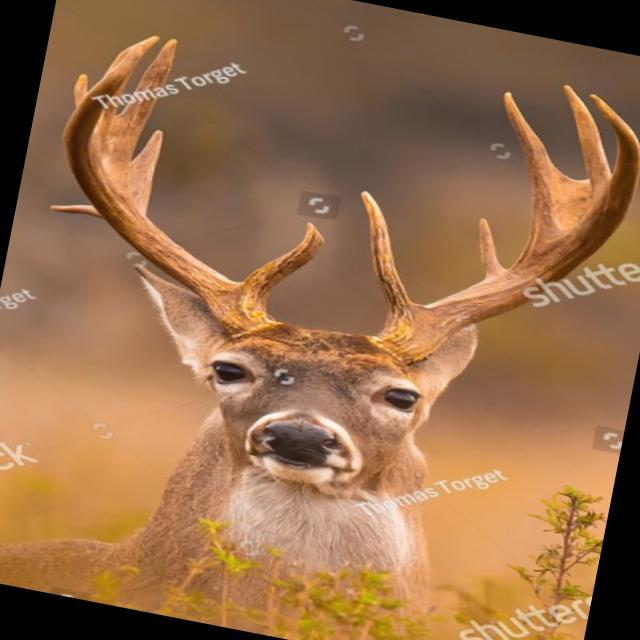E1: (49, 206, 103, 217)
L-F: (372, 93, 640, 362)
L-G1: (359, 189, 416, 315)
L-G2: (478, 217, 507, 281)
L-G3: (503, 92, 566, 205)
L-G4: (562, 85, 610, 182)
R-F: (60, 35, 277, 334)
R-G1: (238, 222, 324, 301)
